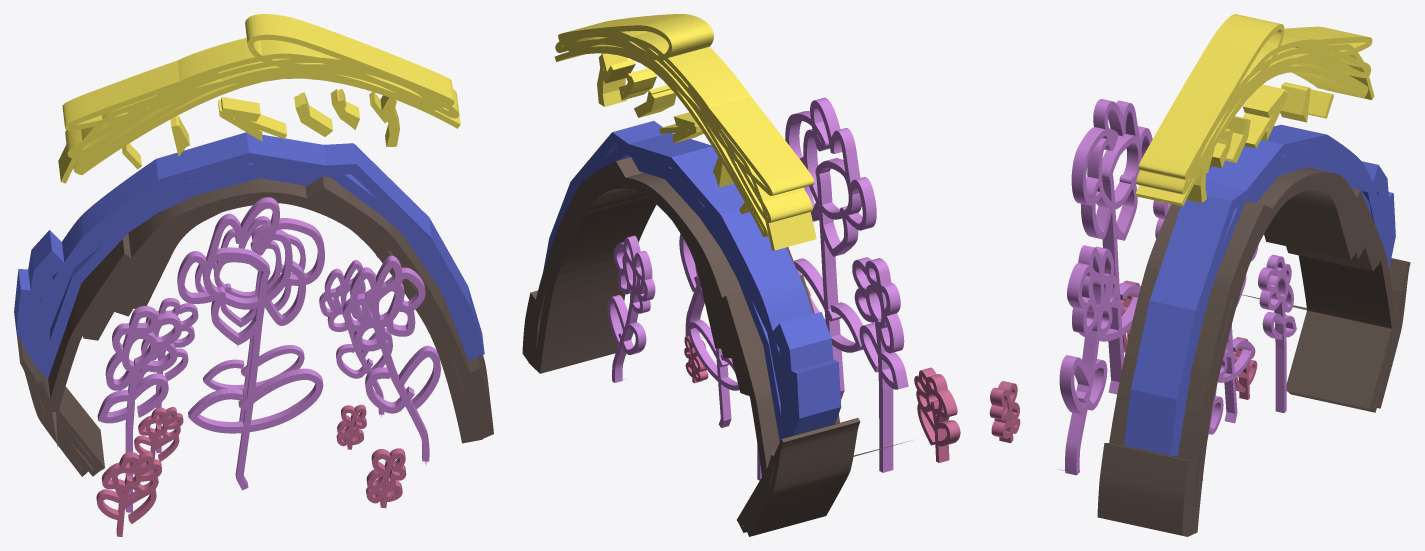
3 views of the same model, side by side, from view 1: azimuth 30°, elevation 25°; view 2: azimuth 150°, elevation 25°; view 3: azimuth 270°, elevation 25° (orthographic). The views are drawn at different scales.
Visible parts, largest first — view 1: 2; view 2: 2; view 3: 2.
Part boxes in pixels (<box>): 2: <box>14,14,493,536</box>; 2: <box>522,14,960,536</box>; 2: <box>989,14,1410,536</box>.
Bounding box in the file's own units: 1.71 × 1.69 × 1.43.
